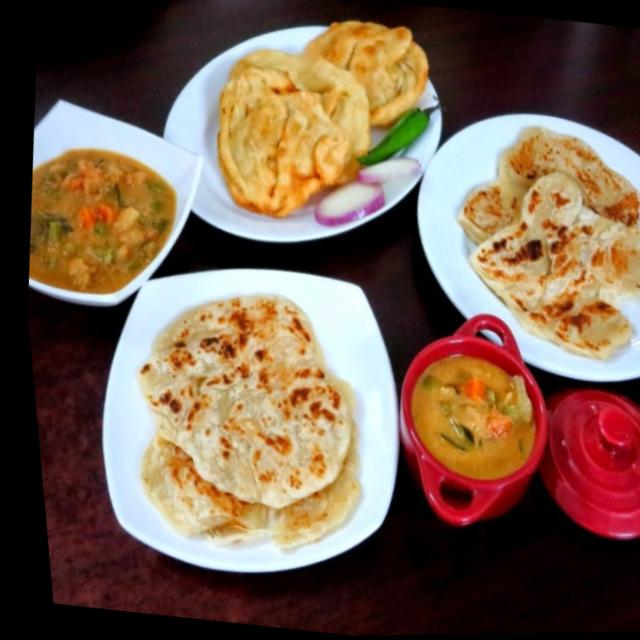CURRY: (28, 143, 177, 291), (407, 348, 535, 479)
PAROTTA: (130, 291, 358, 553), (451, 125, 640, 360), (207, 15, 425, 216)
